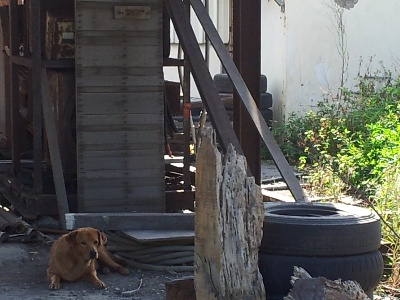tire: (238, 200, 384, 256)
